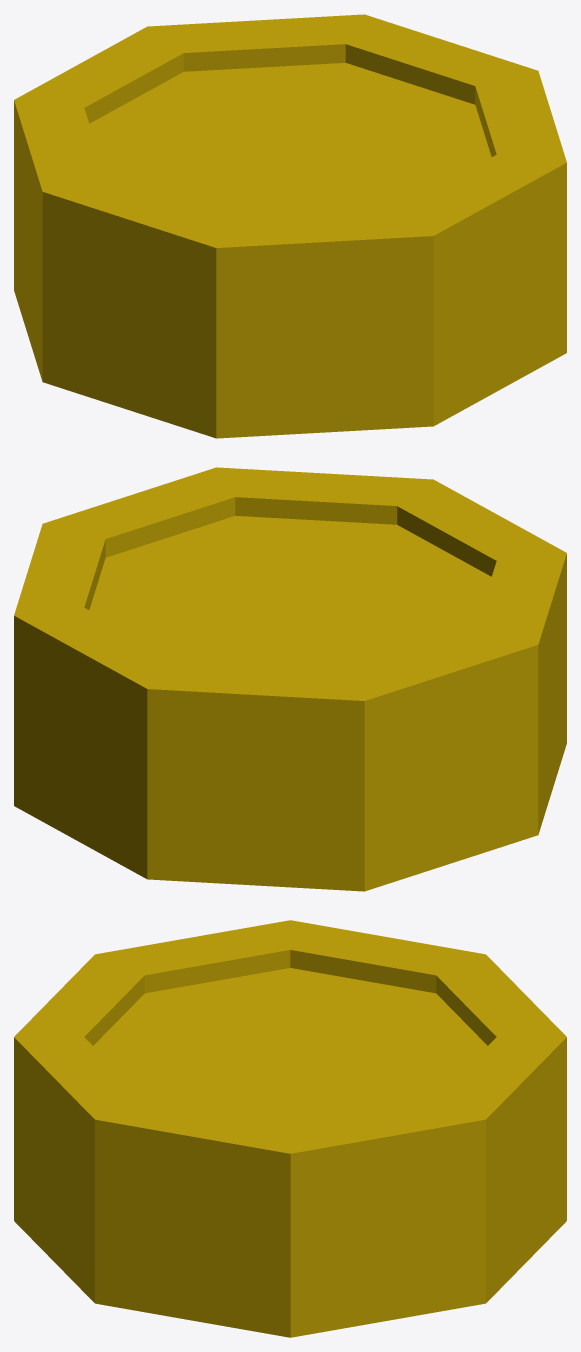
File: coin.fbx
The picture shows the model from 3 angles, top to bottom: view 1: azimuth 30°, elevation 25°; view 2: azimuth 150°, elevation 25°; view 3: azimuth 270°, elevation 25°; orthographic projection. The views are drawn at different scales.
Visible parts, largest first — view 1: coin; view 2: coin; view 3: coin.
Boxes of the visible parts, box(x1,y1,x2,y2) form: coin: box(14, 14, 566, 438); coin: box(14, 467, 566, 891); coin: box(14, 920, 566, 1337).
Bounding box in the file's own units: 2.06 × 0.7572 × 2.06.
